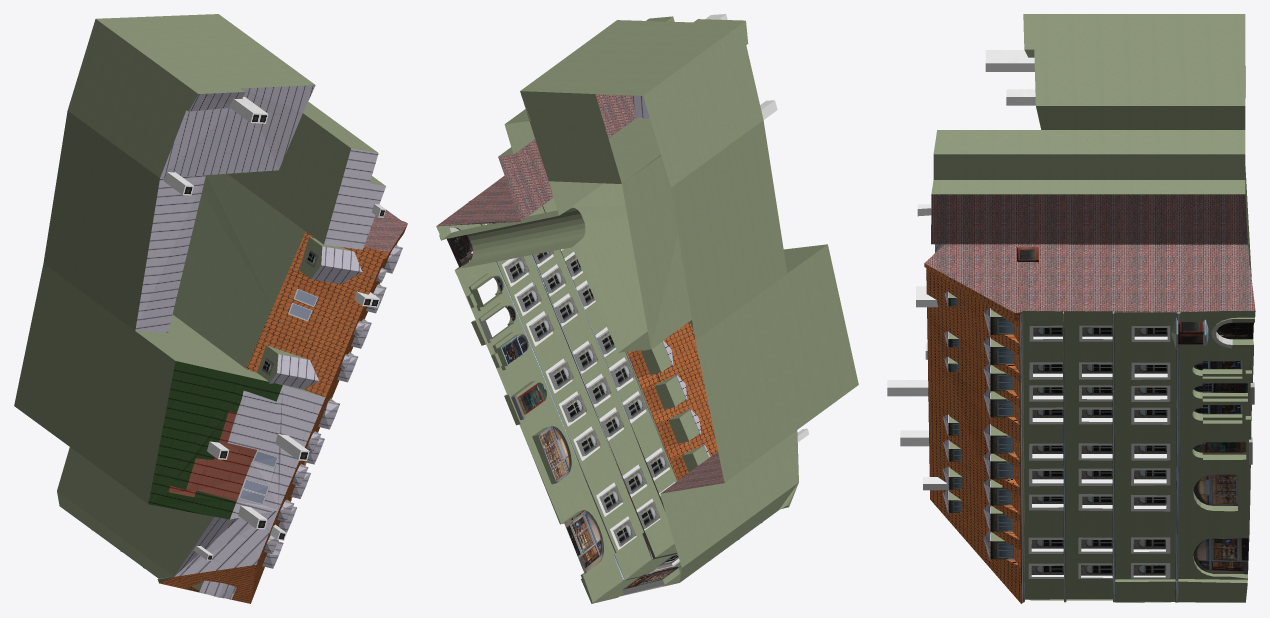
The model's file is vene_1.obj.
3 renders of one model, left to right at view 1: azimuth 30°, elevation 25°; view 2: azimuth 150°, elevation 25°; view 3: azimuth 270°, elevation 25°, orthographic. The views are drawn at different scales.
Parts seen in each view (by area): view 1: Vene_1; view 2: Vene_1; view 3: Vene_1.
Boxes of the visible parts, <box> form: Vene_1: <box>14,14,407,603</box>; Vene_1: <box>436,14,858,603</box>; Vene_1: <box>887,14,1255,603</box>.
Size of the model in its own units: 26.06 by 45.26 by 26.83.
